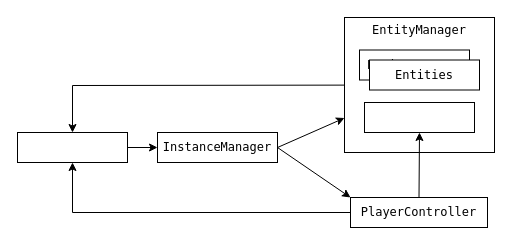
This 512x245 diagram has some shape labels left out. The shapes that lost their labels are listed below. From the top down, each one's centre as x and y in pixels, then its label:
point (419, 117): Player
point (72, 147): Events
